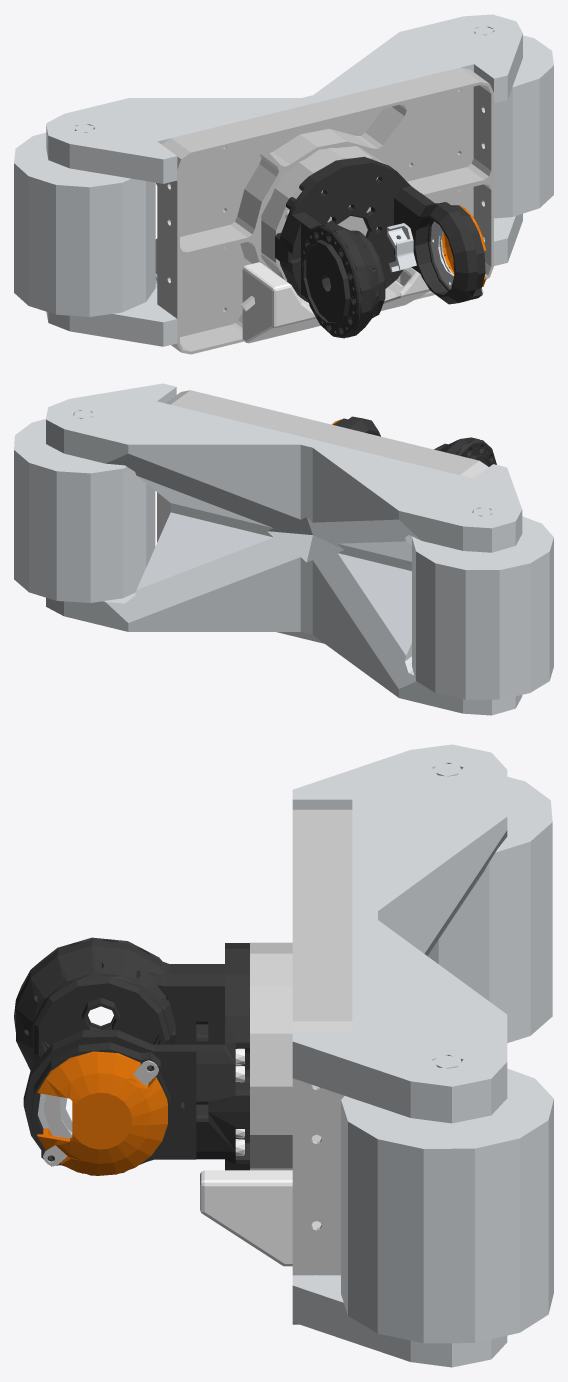
File: RLEG_LINK5_mesh.dae
3 renders of one model, top to bottom at view 1: azimuth 30°, elevation 25°; view 2: azimuth 150°, elevation 25°; view 3: azimuth 270°, elevation 25°, orthographic. The views are drawn at different scales.
Visible parts, largest first — view 1: RLEG_LINK5 (×10); view 2: RLEG_LINK5 (×4); view 3: RLEG_LINK5 (×9).
Boxes of the visible parts, x1,y1,x2,y2 form: RLEG_LINK5 (×10): (14, 14, 553, 354); RLEG_LINK5 (×4): (14, 383, 553, 715); RLEG_LINK5 (×9): (14, 744, 553, 1367).
Size of the model in its own units: 0.3783 by 0.14 by 0.2266.
